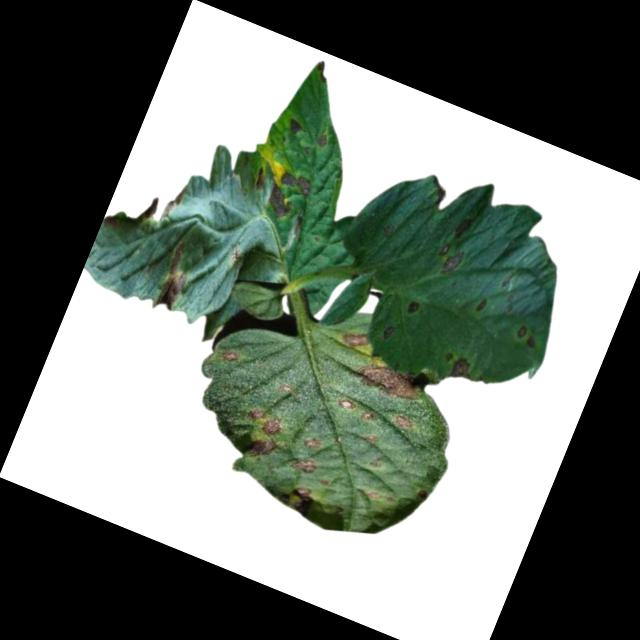Early_blight: (353, 344, 438, 410), (150, 241, 201, 317), (243, 402, 290, 441), (430, 239, 471, 280), (157, 179, 189, 227), (275, 478, 314, 516), (277, 166, 318, 200), (262, 184, 298, 220), (448, 352, 481, 385), (245, 433, 278, 465), (287, 449, 320, 478), (339, 323, 371, 351), (514, 323, 541, 349), (390, 408, 417, 433), (453, 212, 475, 242), (218, 344, 242, 368), (284, 114, 308, 137), (298, 431, 323, 453), (335, 392, 358, 414), (405, 296, 425, 318), (315, 131, 332, 149), (359, 406, 377, 422), (475, 296, 490, 313)
